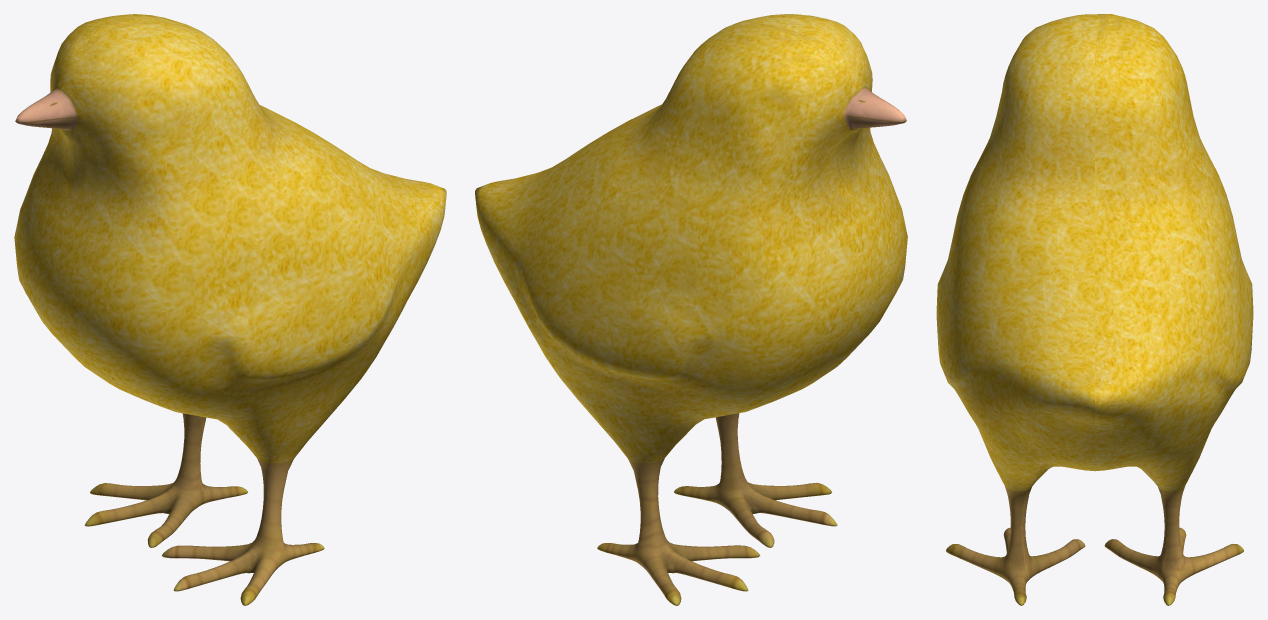
File: Chicken-6.obj
3 renders of one model, left to right at view 1: azimuth 30°, elevation 25°; view 2: azimuth 150°, elevation 25°; view 3: azimuth 270°, elevation 25°, orthographic. The views are drawn at different scales.
Parts seen in each view (by area): view 1: Line001.001; view 2: Line001.001; view 3: Line001.001.
Part boxes in pixels (x1,y1,x2,y2): Line001.001: [14, 14, 446, 605]; Line001.001: [475, 14, 907, 605]; Line001.001: [936, 14, 1253, 605].
Size of the model in its own units: 4 by 4.72 by 2.66.
